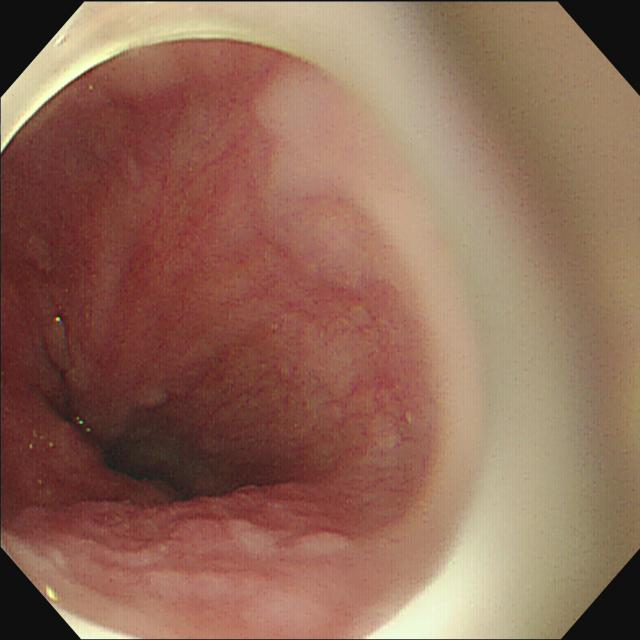E: (106, 421, 224, 520)
U: (51, 314, 65, 325)
